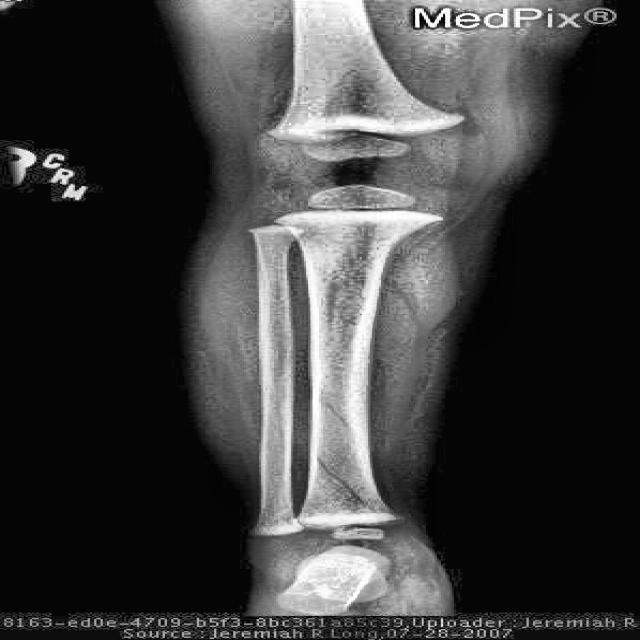line: (314, 458, 376, 513), (323, 402, 351, 426)
